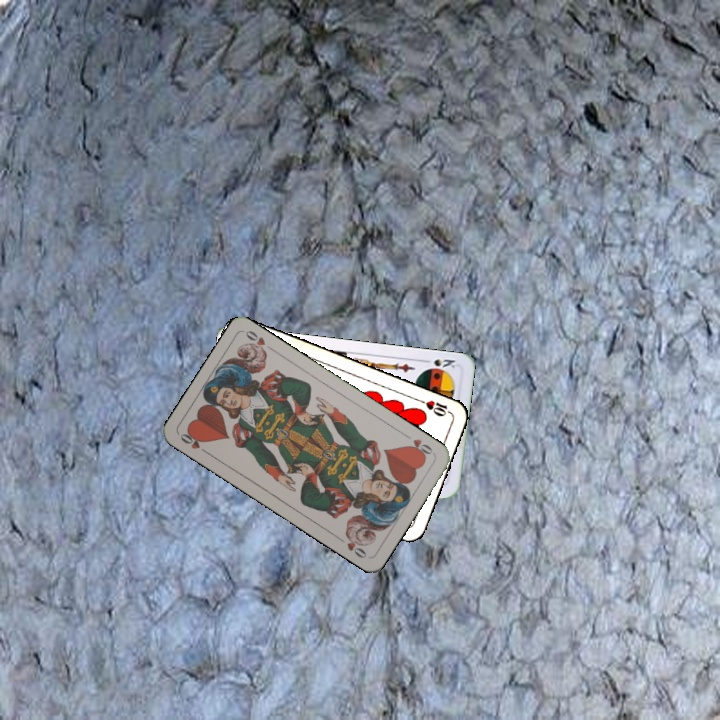H10: (414, 395, 453, 419)
HO: (400, 430, 437, 460), (176, 427, 212, 457)
SK: (418, 355, 459, 371)
